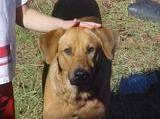dog: (39, 26, 119, 118)
